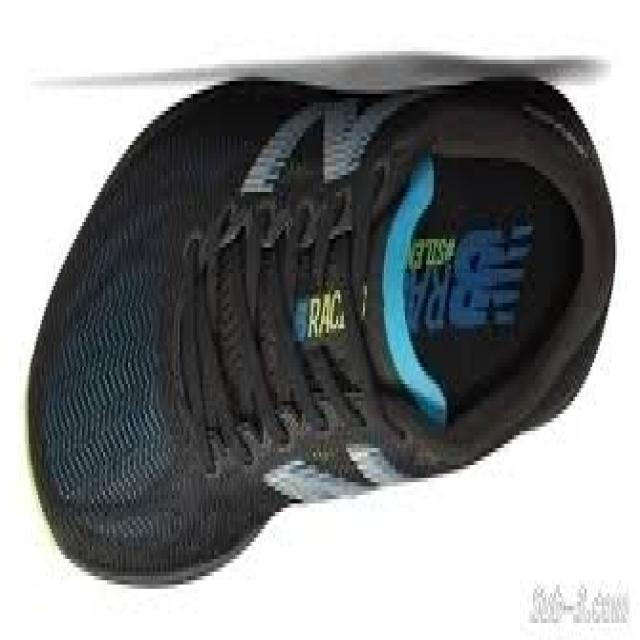shoe: (20, 62, 612, 600)
